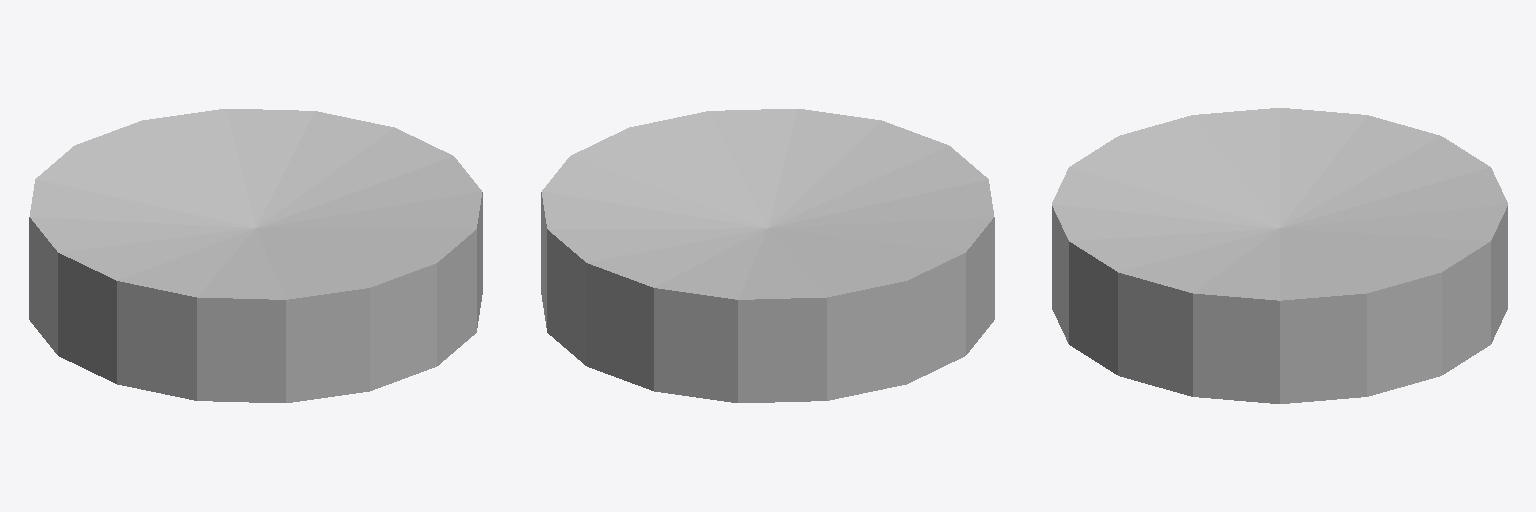
File: editor_controller_button_oculus.sgm.obj
3 views of the same model, side by side, from view 1: azimuth 30°, elevation 25°; view 2: azimuth 150°, elevation 25°; view 3: azimuth 270°, elevation 25° (orthographic).
Visible parts, largest first — view 1: 0; view 2: 0; view 3: 0.
Boxes of the visible parts, x1=… form: 0: x1=29, y1=109, x2=482, y2=402; 0: x1=541, y1=109, x2=994, y2=402; 0: x1=1052, y1=108, x2=1507, y2=403.
Bounding box in the file's own units: 0.01 × 0.0025 × 0.01.